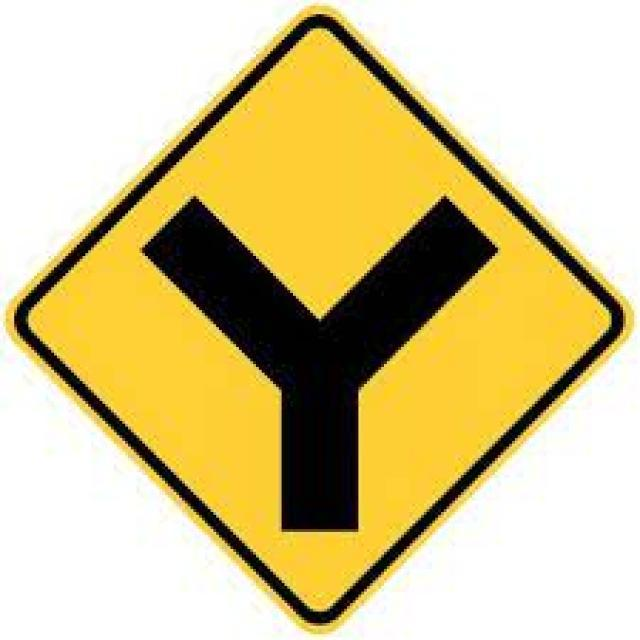y intersection: (32, 29, 607, 610)
